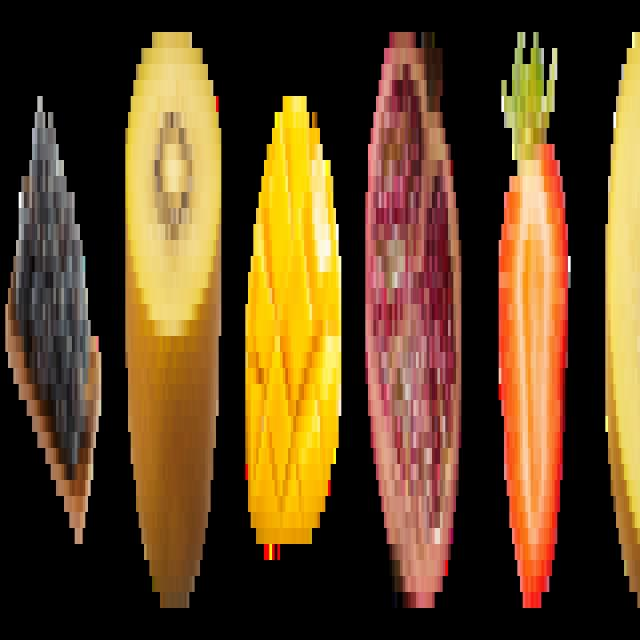grape: (5, 54, 105, 592)
kiwifruit: (122, 22, 226, 618)
mango: (241, 58, 345, 583)
pomegranate: (362, 9, 468, 626)
strawberry: (490, 12, 576, 618)
